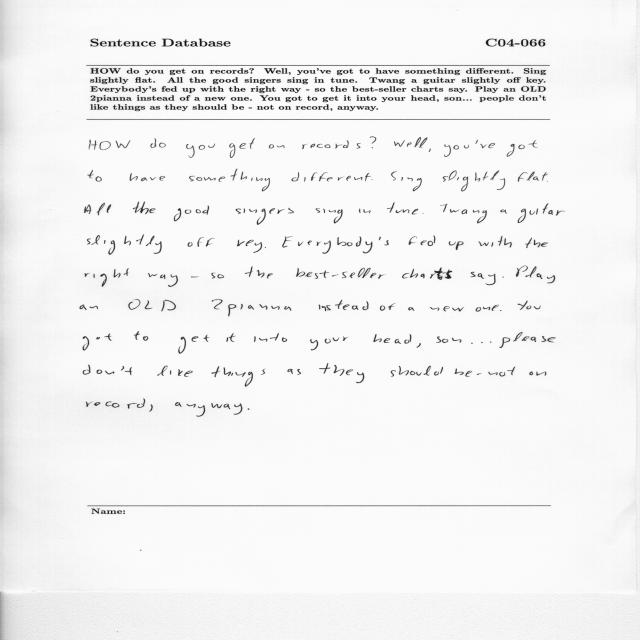word: (178, 333, 287, 354), (189, 169, 270, 191), (282, 236, 373, 254), (88, 234, 162, 255), (212, 300, 292, 317), (443, 171, 505, 192), (212, 366, 266, 387), (175, 402, 242, 417), (236, 208, 294, 225), (296, 268, 385, 279), (518, 203, 566, 223), (499, 332, 556, 348), (319, 364, 364, 384), (440, 204, 487, 223), (85, 268, 129, 287), (291, 172, 371, 182), (516, 266, 555, 283), (402, 267, 452, 280), (391, 172, 422, 192), (87, 399, 146, 409), (128, 300, 176, 312), (391, 366, 443, 377), (174, 206, 209, 222), (319, 300, 369, 311), (310, 337, 348, 351), (507, 140, 538, 157), (303, 141, 361, 150), (83, 333, 112, 351), (229, 138, 255, 158), (83, 365, 132, 375), (186, 143, 215, 158), (316, 208, 343, 224), (148, 273, 178, 287), (89, 140, 130, 150), (478, 236, 512, 248), (157, 366, 193, 377), (374, 334, 412, 344), (387, 202, 418, 214), (245, 266, 273, 279), (394, 137, 427, 148), (470, 272, 496, 285), (444, 144, 469, 157), (237, 240, 262, 253), (85, 203, 112, 215), (518, 172, 548, 182), (489, 366, 516, 377), (130, 173, 165, 181), (188, 237, 215, 247), (409, 236, 436, 246), (133, 202, 155, 214), (525, 238, 548, 248), (518, 301, 541, 310), (437, 336, 462, 343), (88, 170, 102, 182), (150, 138, 166, 148), (475, 140, 495, 148), (455, 368, 472, 377), (134, 331, 148, 341), (449, 241, 464, 250), (380, 303, 395, 311), (444, 306, 465, 311), (80, 305, 98, 310), (287, 369, 301, 375), (379, 237, 389, 245), (211, 273, 224, 279), (529, 372, 547, 376), (370, 137, 376, 148), (471, 341, 492, 344), (269, 145, 284, 149), (359, 209, 371, 214), (492, 305, 501, 311), (430, 307, 440, 311), (501, 210, 508, 214), (149, 405, 153, 412), (476, 307, 481, 312), (416, 343, 421, 348), (409, 307, 415, 311), (483, 307, 490, 310), (191, 277, 199, 278), (477, 373, 481, 375), (429, 149, 431, 152), (248, 408, 250, 410), (502, 277, 504, 278), (372, 179, 373, 180), (423, 213, 424, 214), (265, 247, 266, 248), (547, 181, 548, 181)
